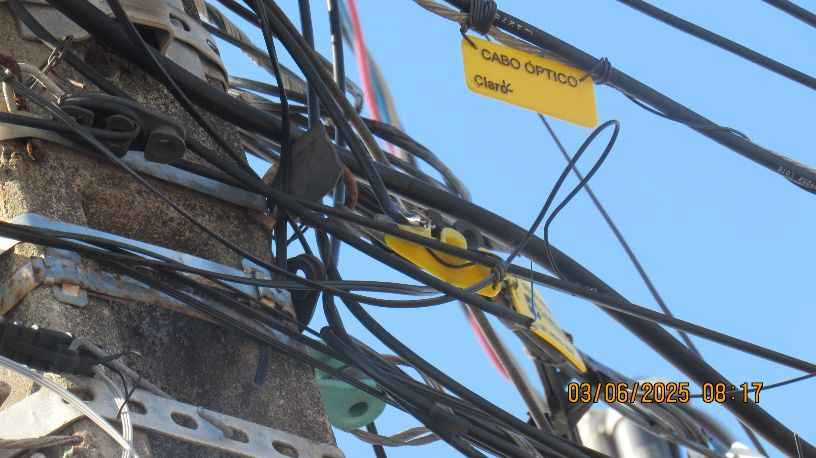drop: (332, 161, 493, 304), (289, 313, 476, 412), (50, 78, 185, 161)
fibra_optica: (505, 251, 649, 392)
